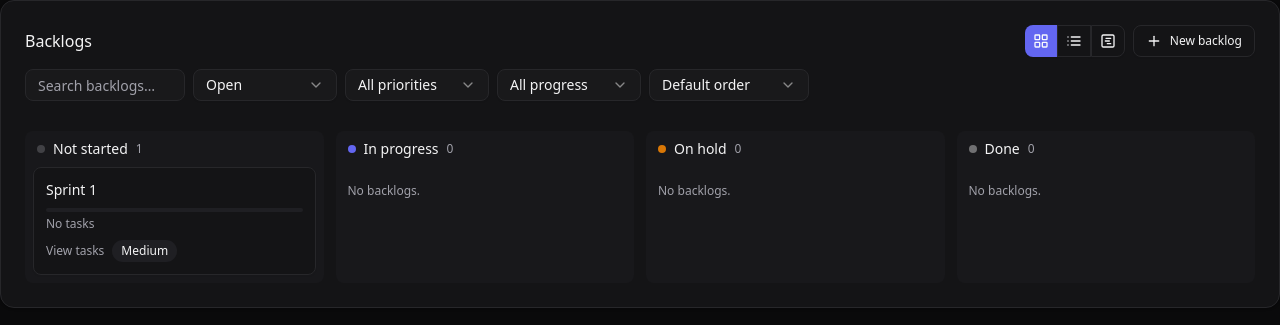
Scenario: BacklogsPage › fetches the unclassified task count and shows it as a trailing List row
The width and height of the screenshot is (1280, 325).
Click the button named "List".
click(1074, 41)  # box [1057,25,1091,57]
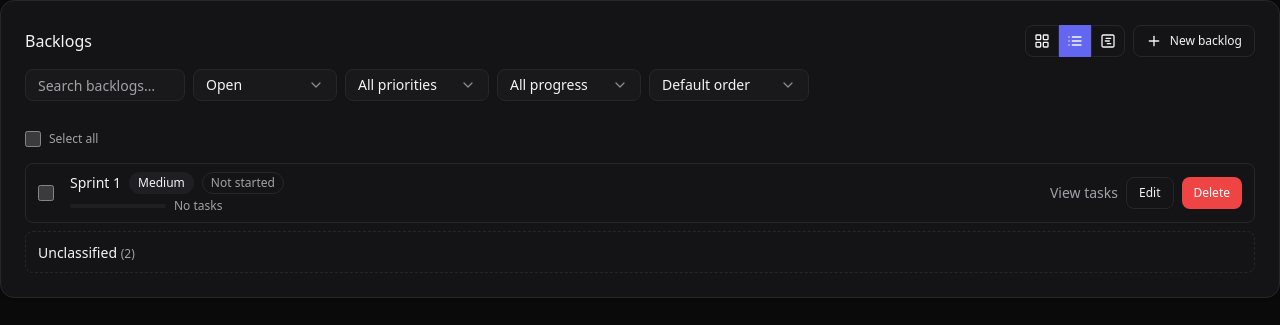
Expected: the link "Unclassified (2)" is shown, [38,243,135,262]
